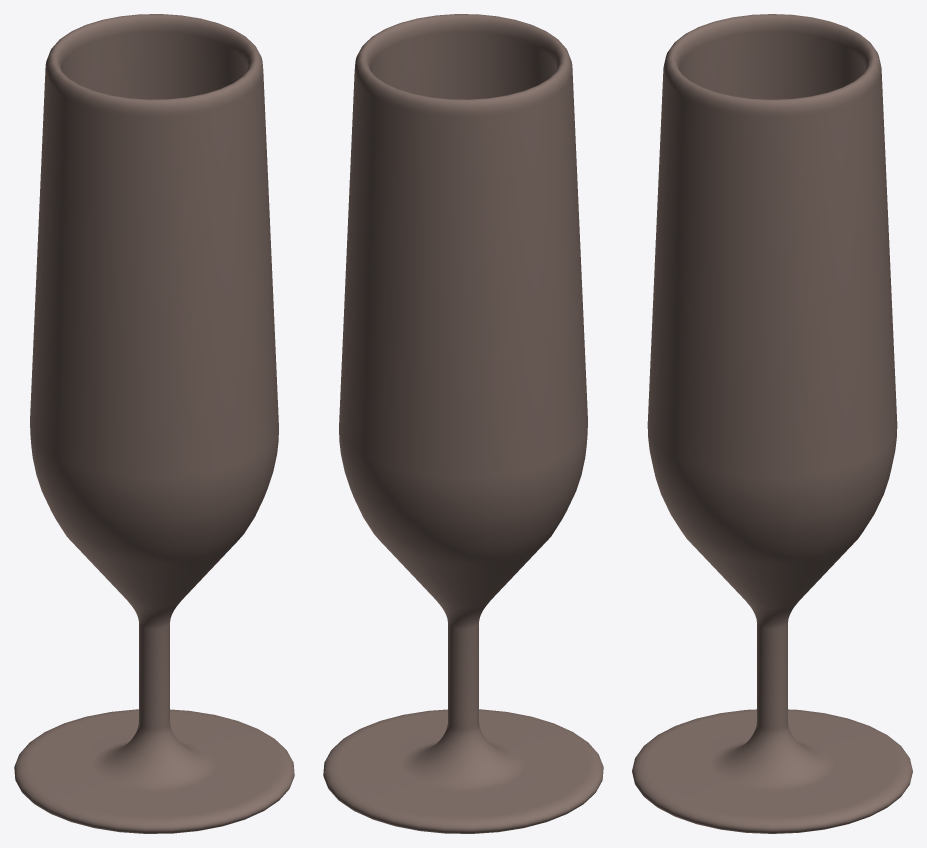
File: Copa.obj
3 renders of one model, left to right at view 1: azimuth 30°, elevation 25°; view 2: azimuth 150°, elevation 25°; view 3: azimuth 270°, elevation 25°, orthographic.
Visible parts, largest first — view 1: Copa:Mesh; view 2: Copa:Mesh; view 3: Copa:Mesh.
Part boxes in pixels (bbox=[...]): Copa:Mesh: bbox=[14, 14, 294, 833]; Copa:Mesh: bbox=[323, 14, 603, 833]; Copa:Mesh: bbox=[632, 14, 912, 833].
Bounding box in the file's own units: 0.72 × 2.04 × 0.72.
Materials: 1 (1 with a texture image).
